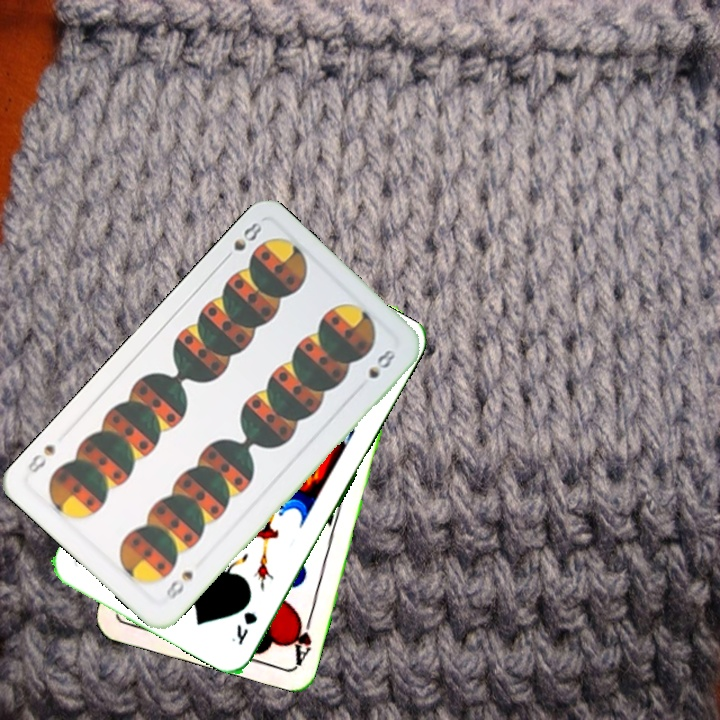GK: (227, 607, 260, 648)
HA: (287, 608, 316, 667)
S8: (218, 218, 265, 265), (160, 566, 196, 606)
